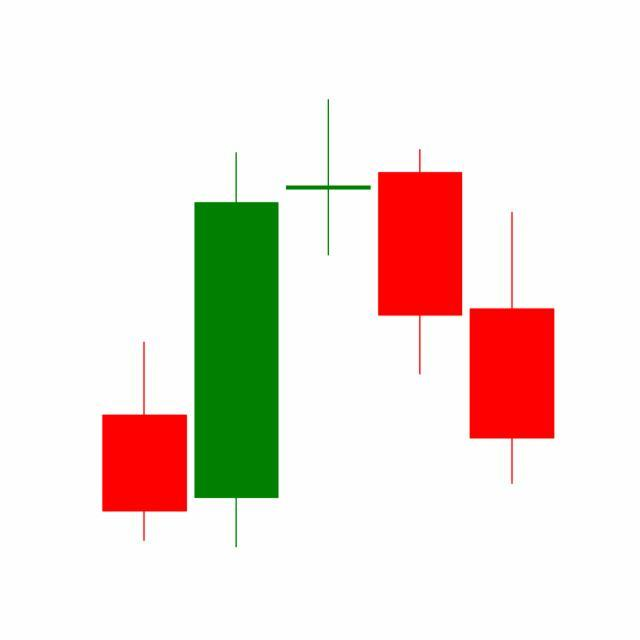Evening Star: (190, 99, 467, 549)
